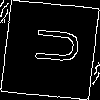U: (24, 24, 81, 66)
